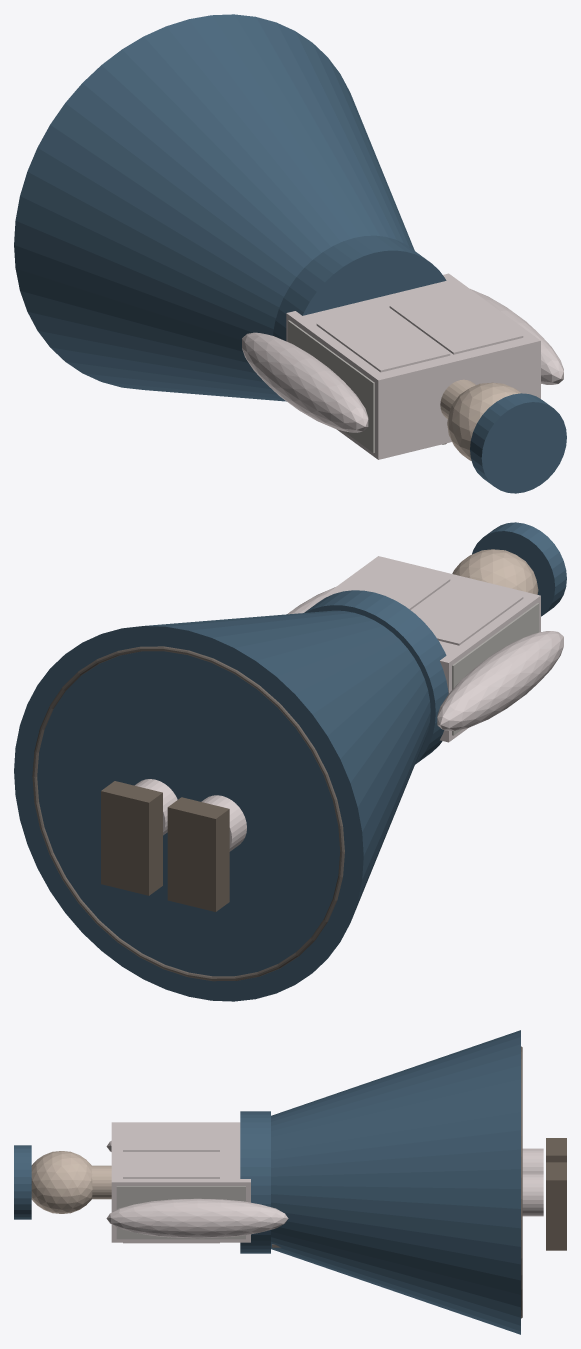
File: MASTER_068_STAGE3_DETAIL.glb
3 views of the same model, one above another, from view 1: azimuth 30°, elevation 25°; view 2: azimuth 150°, elevation 25°; view 3: azimuth 270°, elevation 25° (orthographic). The views are drawn at different scales.
Visible parts, largest first — view 1: slot_lower_main__fund_i_gjatë, slot_upper_inner__këmishë, slot_waist__brez, slot_headwear__mbulesë_koke, slot_upper_inner_sleeve_L, slot_upper_outer__jelek_L, slot_upper_outer__jelek_R, mannequin_torso, mannequin_head, slot_upper_inner_sleeve_R; view 2: slot_lower_main__fund_i_gjatë, slot_footwear__opinga_L, slot_footwear__opinga_R, slot_upper_inner_sleeve_L, detail_skirt_hem, slot_waist__brez, slot_upper_outer__jelek_L, slot_headwear__mbulesë_koke, slot_upper_inner__këmishë, slot_upper_outer__jelek_R, mannequin_head, mannequin_torso (+2 smaller); view 3: slot_lower_main__fund_i_gjatë, slot_upper_inner_sleeve_R, slot_upper_inner__këmishë, mannequin_head, slot_waist__brez, slot_upper_outer__jelek_R, slot_upper_outer__jelek_L, mannequin_torso, slot_footwear__opinga_R, slot_headwear__mbulesë_koke, slot_legwear__çorape_R, mannequin_neck (+3 smaller).
Part boxes in pixels (x1,y1,x2,y2): slot_lower_main__fund_i_gjatë: [14, 14, 414, 401]; slot_upper_inner__këmishë: [286, 273, 540, 459]; slot_waist__brez: [273, 235, 446, 340]; slot_headwear__mbulesë_koke: [470, 393, 566, 493]; slot_upper_inner_sleeve_L: [242, 332, 368, 432]; slot_upper_outer__jelek_L: [316, 306, 450, 372]; slot_upper_outer__jelek_R: [389, 289, 523, 354]; mannequin_torso: [288, 320, 374, 452]; mannequin_head: [447, 382, 521, 460]; slot_upper_inner_sleeve_R: [470, 289, 563, 384]; slot_lower_main__fund_i_gjatë: [14, 610, 430, 1001]; slot_footwear__opinga_L: [167, 797, 229, 911]; slot_footwear__opinga_R: [101, 781, 162, 895]; slot_upper_inner_sleeve_L: [437, 631, 563, 730]; detail_skirt_hem: [32, 646, 344, 981]; slot_waist__brez: [304, 590, 448, 764]; slot_upper_outer__jelek_L: [411, 580, 523, 645]; slot_headwear__mbulesë_koke: [472, 522, 566, 616]; slot_upper_inner__këmishë: [300, 556, 540, 742]; slot_upper_outer__jelek_R: [339, 562, 450, 609]; mannequin_head: [452, 549, 538, 594]; mannequin_torso: [452, 603, 539, 735]; slot_lower_main__fund_i_gjatë: [271, 1030, 520, 1334]; slot_upper_inner_sleeve_R: [106, 1198, 288, 1238]; slot_upper_inner__këmishë: [111, 1122, 250, 1242]; mannequin_head: [31, 1151, 92, 1213]; slot_waist__brez: [240, 1111, 270, 1253]; slot_upper_outer__jelek_R: [123, 1151, 219, 1243]; slot_upper_outer__jelek_L: [123, 1124, 219, 1151]; mannequin_torso: [116, 1186, 245, 1239]; slot_footwear__opinga_R: [546, 1162, 566, 1250]; slot_headwear__mbulesë_koke: [14, 1145, 31, 1219]; slot_legwear__çorape_R: [522, 1173, 543, 1216]; mannequin_neck: [91, 1165, 111, 1199].
Bounding box in the file's own units: 0.9435 × 0.9435 × 1.71.
